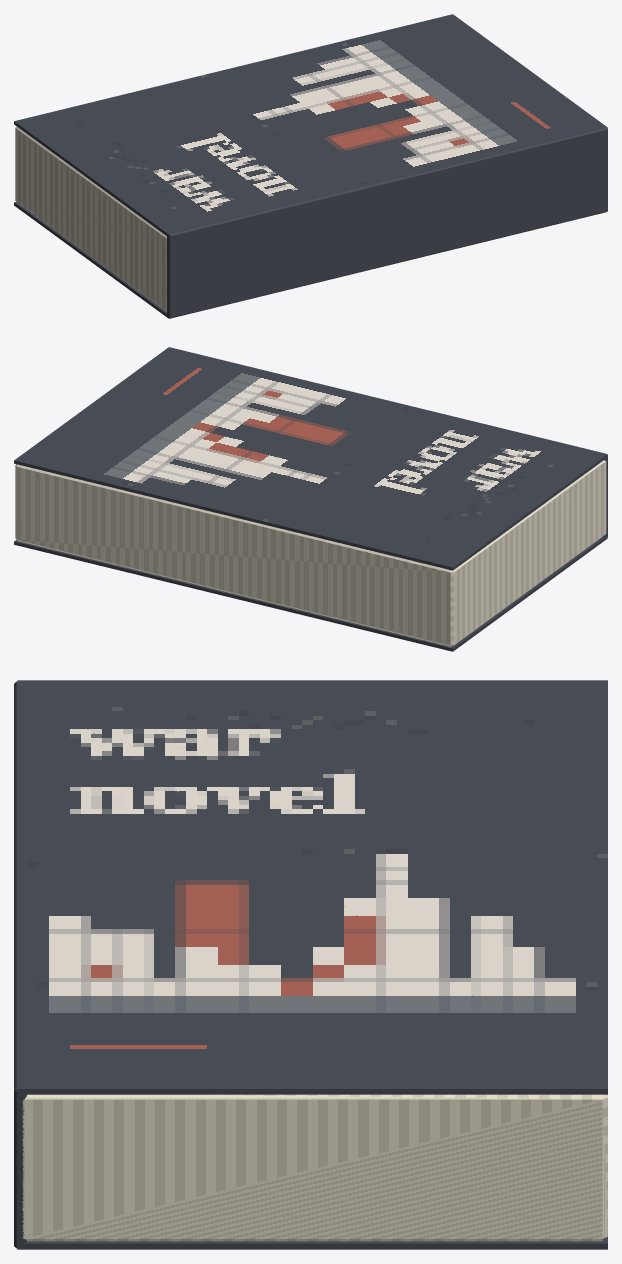
File: novel_war2.glb
The picture shows the model from 3 angles, top to bottom: view 1: azimuth 30°, elevation 25°; view 2: azimuth 150°, elevation 25°; view 3: azimuth 270°, elevation 25°; orthographic projection. The views are drawn at different scales.
Parts seen in each view (by area): view 1: block_front, block_spine, block_pages, block_back; view 2: block_front, block_pages, block_back, block_spine; view 3: block_front, block_pages, block_spine, block_back.
Part boxes in pixels (bbox=[...]): block_front: bbox=[14, 14, 607, 237]; block_spine: bbox=[167, 128, 607, 318]; block_pages: bbox=[15, 126, 167, 311]; block_back: bbox=[14, 202, 607, 318]; block_front: bbox=[14, 347, 607, 570]; block_pages: bbox=[15, 460, 606, 646]; block_back: bbox=[14, 536, 607, 651]; block_spine: bbox=[168, 347, 607, 536]; block_front: bbox=[17, 680, 607, 1094]; block_pages: bbox=[22, 1094, 607, 1241]; block_spine: bbox=[14, 681, 26, 1248]; block_back: bbox=[17, 1237, 607, 1249].
Size of the model in its own units: 0.18 by 0.033 by 0.1106.
Materials: 1 (1 with a texture image).
